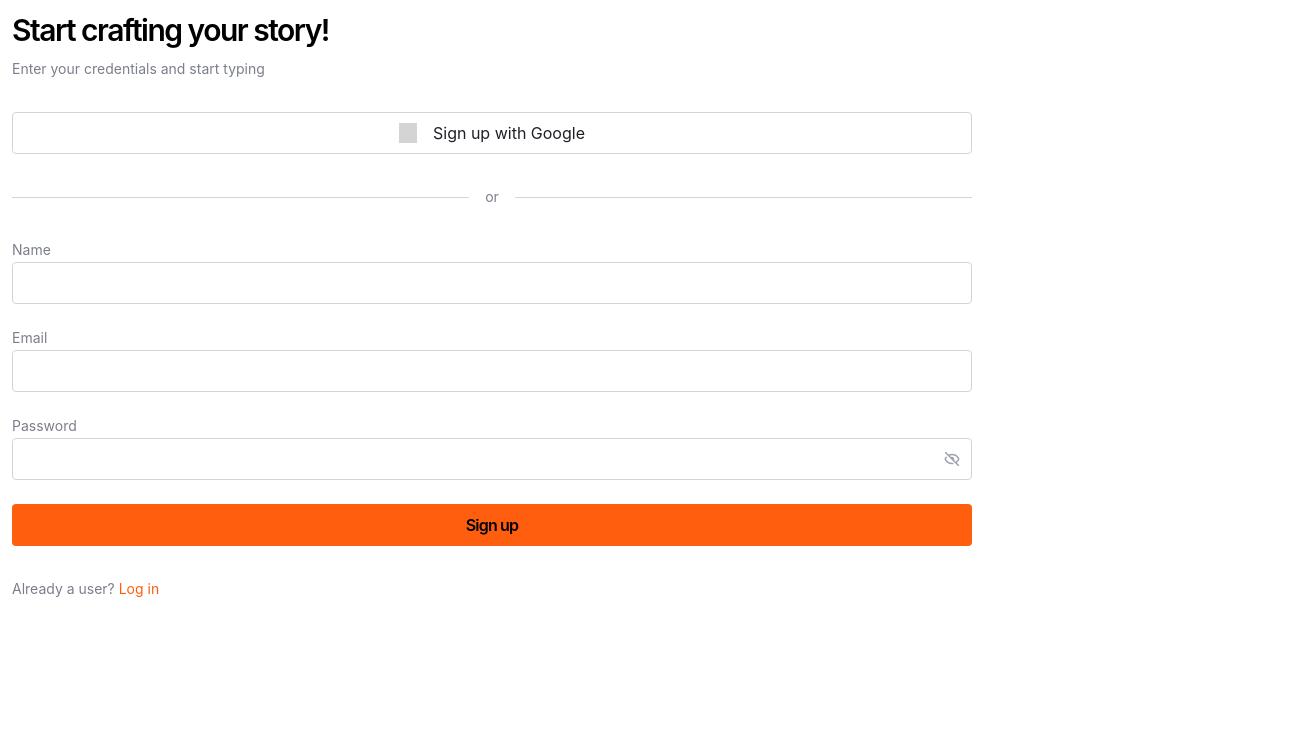
Test: <Signup /> › Form validation › should show an error when the email or password or name are not present
The width and height of the screenshot is (1292, 732).
Click the button "Sign up".
click(492, 525)  # box [12,504,972,546]
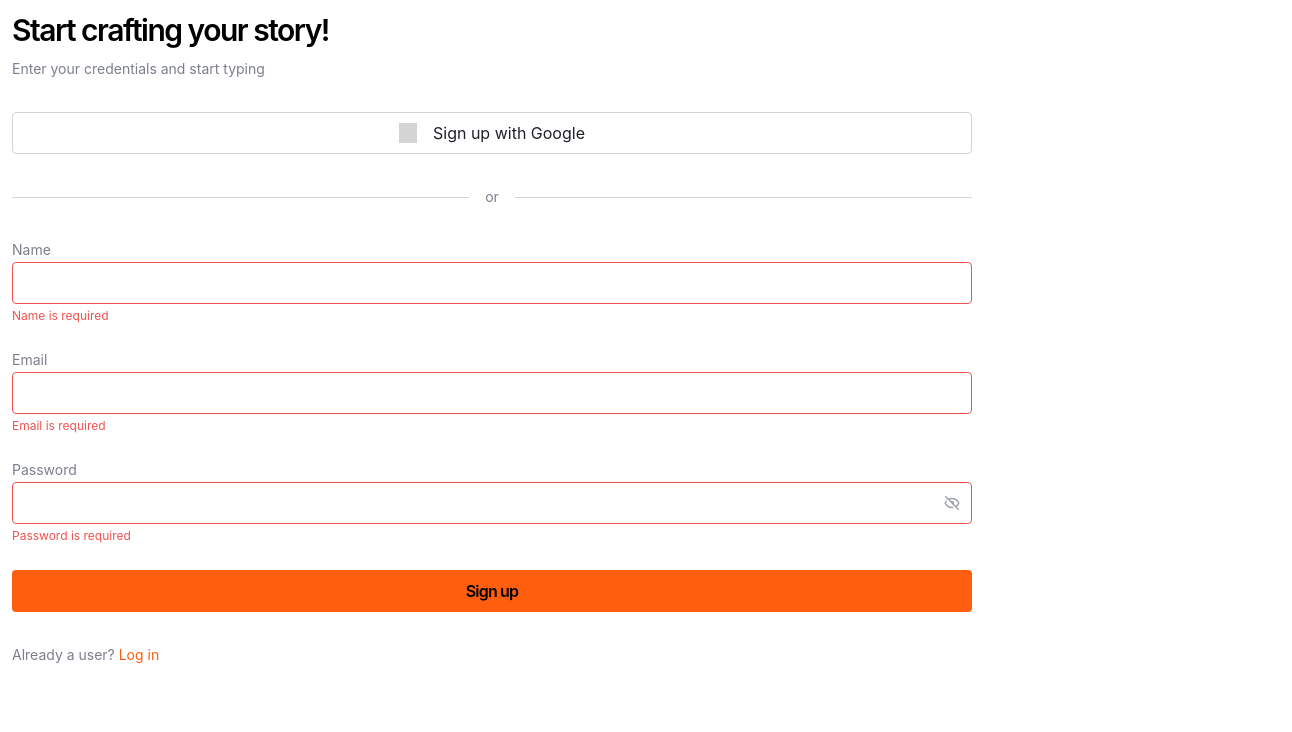
Now the text "Email is required" is shown, box [12,418,106,433]
Now the text "Password is required" is shown, box [12,528,131,543]
Now the text "Name is required" is shown, box [12,308,109,323]
